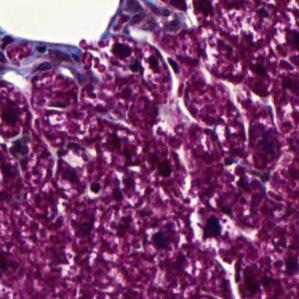inflammation: (38, 97, 83, 130), (102, 35, 144, 66), (196, 211, 235, 244)
